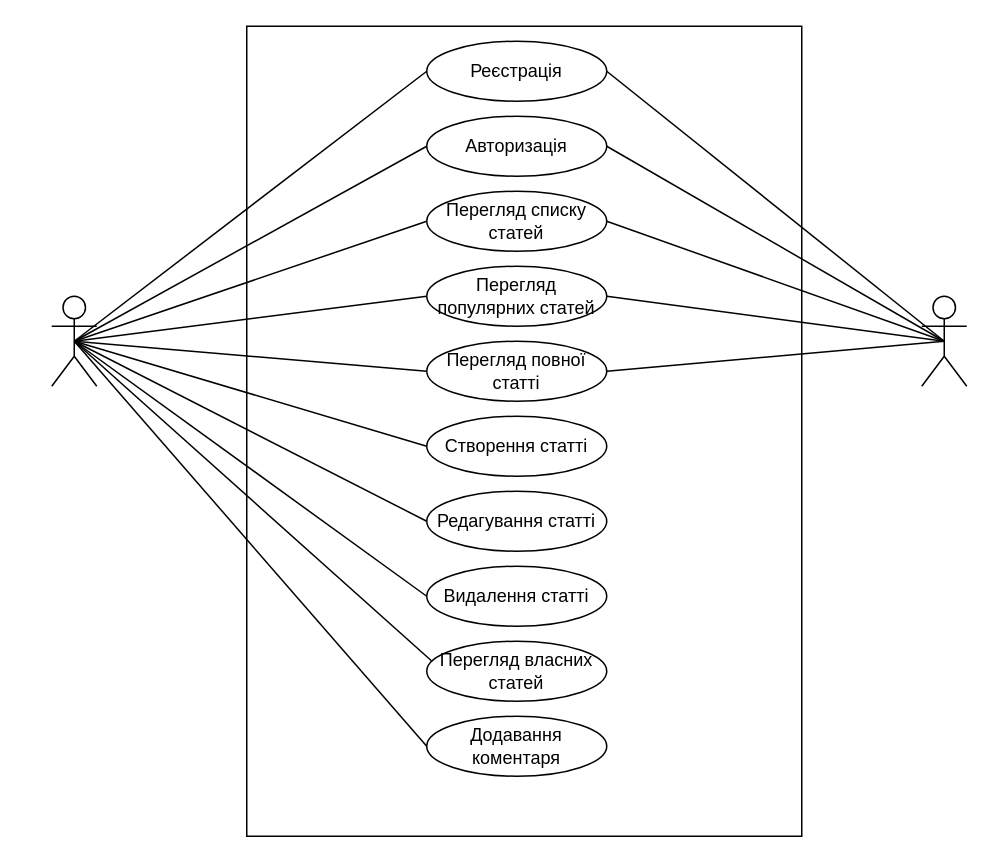
Some shapes in this 993 by 863 pixel diagram are drawn without their labels. Here are the shapes that lost their labels. From the top down, the centre of each, then its label:
(x=73, y=340): Користувач
(x=943, y=340): Гість
